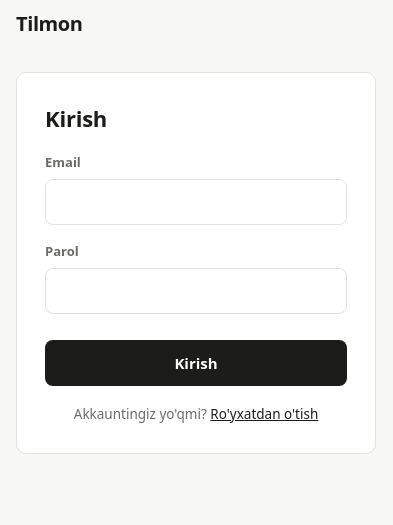
kirish › ⭐ server xabarini o'zi o'ylab topmaydi
In the field labelled "Email": (196, 202) [45, 179, 347, 225], type "a@b.uz"
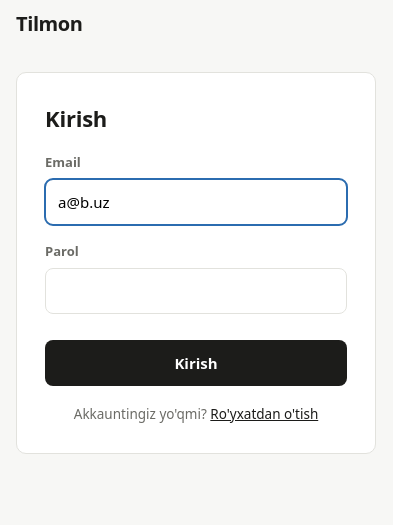
In the password field labelled "Parol": (196, 291) [45, 268, 347, 314], type "x"
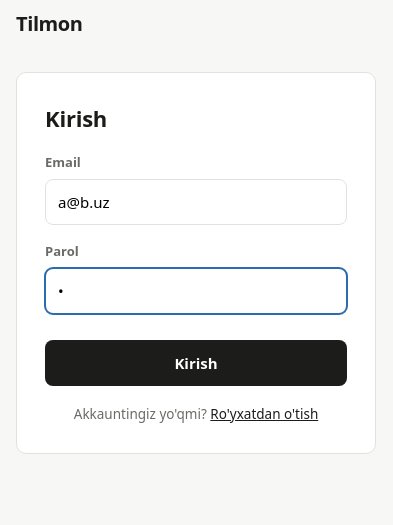
Click the button "Kirish": click(196, 363) [45, 340, 347, 386]
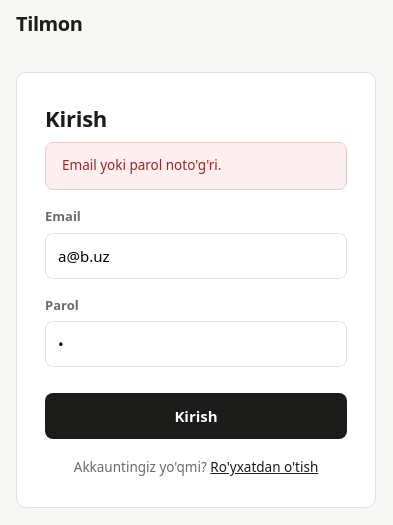
Expected: the text "Email yoki parol noto'g'ri." is shown, [45, 142, 347, 190]
